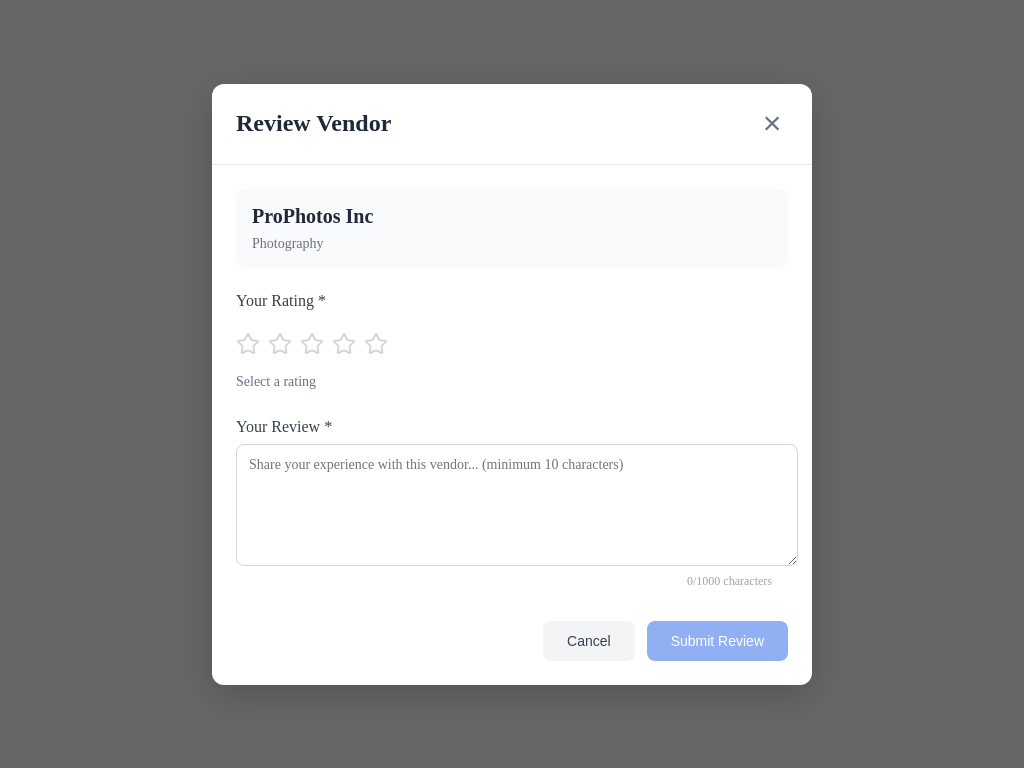
Test: PlannerReviewVendor › disables buttons when submitting
Click the button named "Rate 5 stars" at (376, 342), box left=364, top=322, right=388, bottom=362
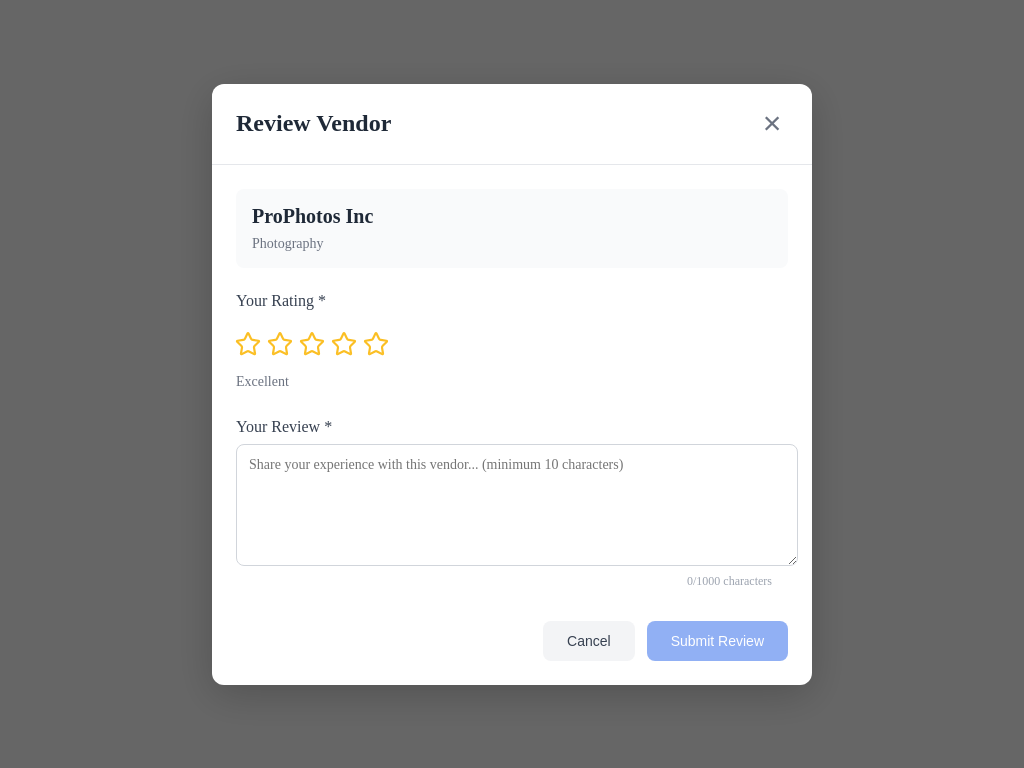
Replace the text in the text box with placeholder "Share your experience" with "Great service provided" at (517, 504), box left=236, top=444, right=798, bottom=566
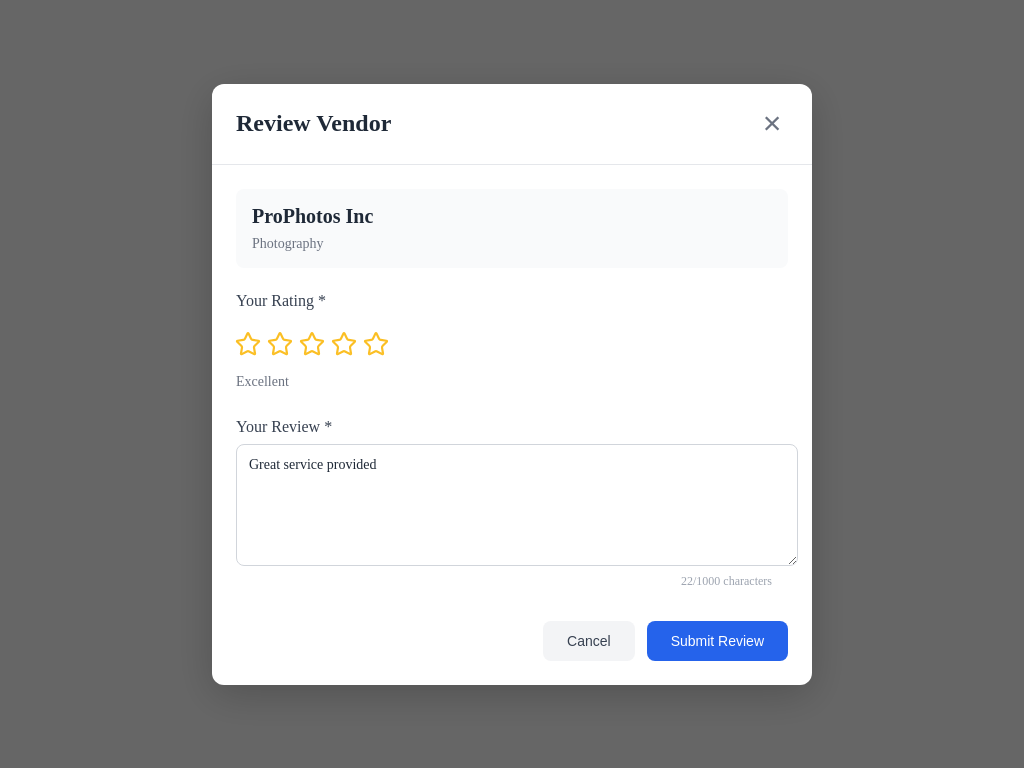
Click the button "Submit Review" at (717, 640), box left=647, top=620, right=788, bottom=660
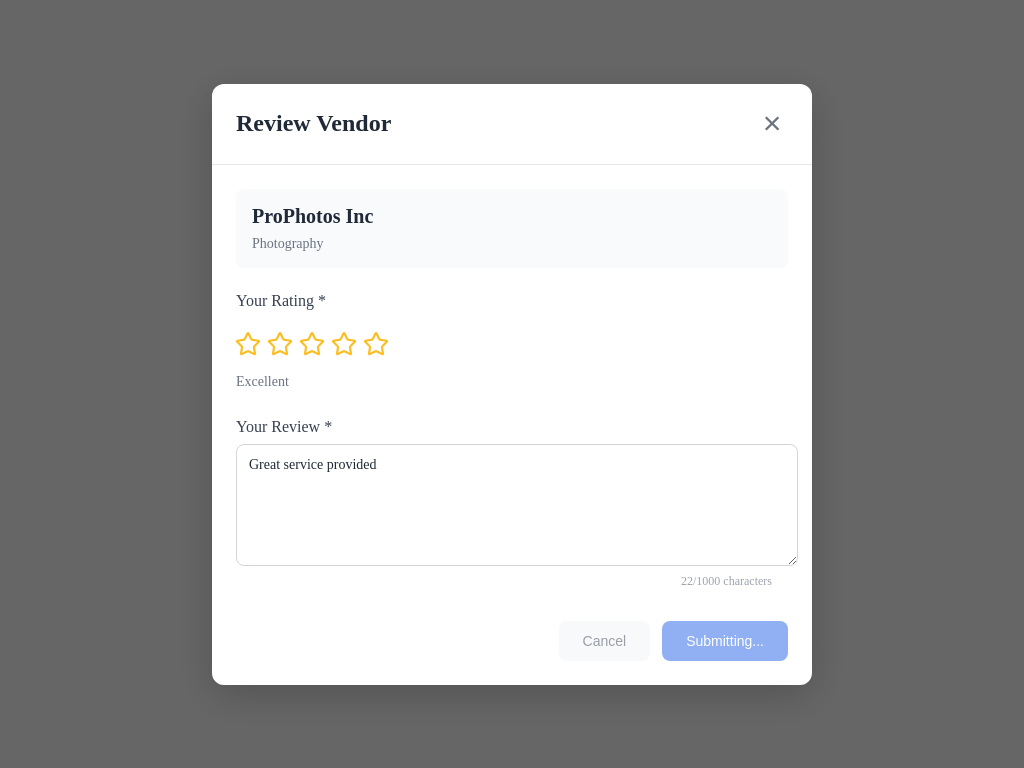
Now the button "Submit Review" is disabled, box left=662, top=620, right=788, bottom=660
Now the button "Cancel" is disabled, box left=559, top=620, right=650, bottom=660
